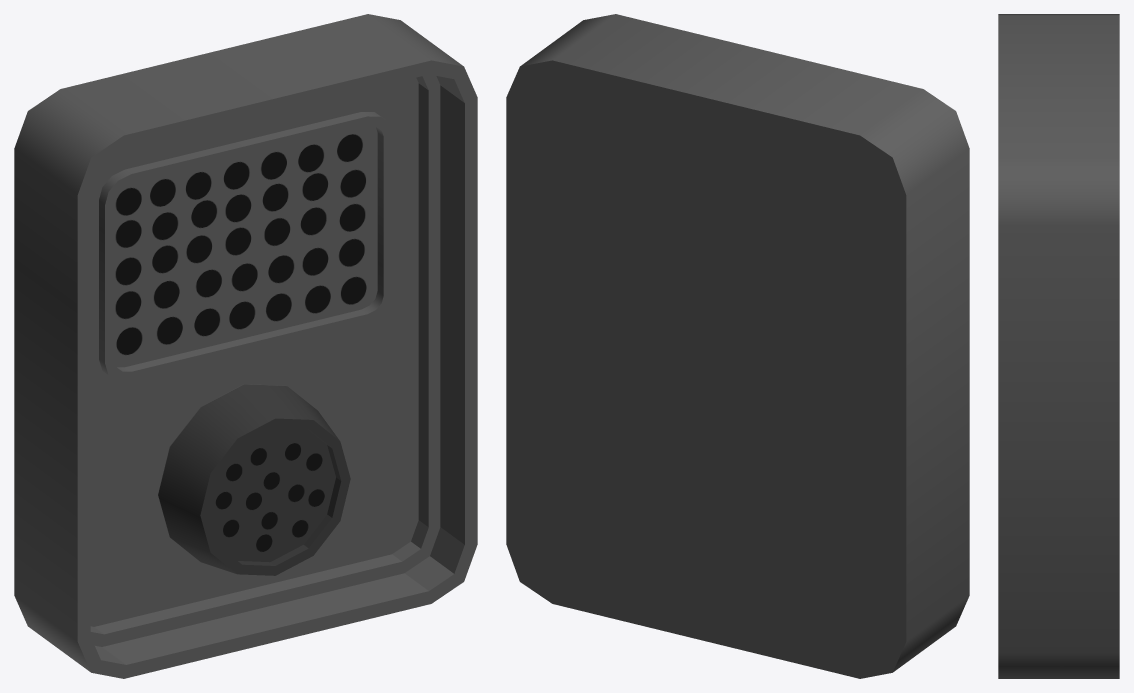
Rendered from Intercome.fbx.
3 renders of one model, left to right at view 1: azimuth 30°, elevation 25°; view 2: azimuth 150°, elevation 25°; view 3: azimuth 270°, elevation 25°, orthographic. The views are drawn at different scales.
Visible parts, largest first — view 1: Rectangle001, Circle001, Rectangle002; view 2: Rectangle001; view 3: Rectangle001.
Part boxes in pixels (<box>): Rectangle001: <box>14,14,477,678</box>; Circle001: <box>158,384,350,575</box>; Rectangle002: <box>99,112,393,382</box>; Rectangle001: <box>506,14,969,678</box>; Rectangle001: <box>998,14,1119,678</box>.
Bounding box in the file's own units: 10.92 × 14.18 × 3.
